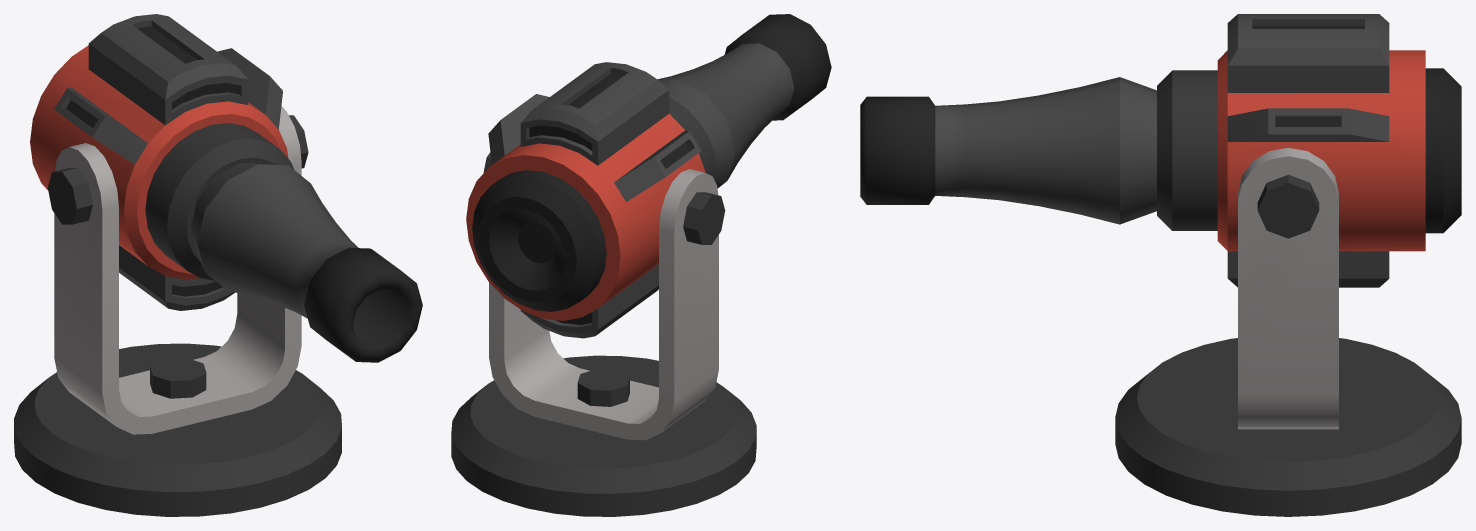
File: bomb_dropper_1.fbx
The picture shows the model from 3 angles, left to right: view 1: azimuth 30°, elevation 25°; view 2: azimuth 150°, elevation 25°; view 3: azimuth 270°, elevation 25°; orthographic projection. The views are drawn at different scales.
Visible parts, largest first — view 1: bomb_dropper_1, bomb_dropper_1_turret, bomb_dropper_1_cannon; view 2: bomb_dropper_1, bomb_dropper_1_turret, bomb_dropper_1_cannon; view 3: bomb_dropper_1, bomb_dropper_1_turret, bomb_dropper_1_cannon.
Part boxes in pixels (x1,y1,x2,y2): bomb_dropper_1: (14, 106, 341, 516); bomb_dropper_1_turret: (30, 14, 294, 310); bomb_dropper_1_cannon: (190, 163, 422, 362); bomb_dropper_1: (451, 152, 756, 516); bomb_dropper_1_turret: (466, 62, 716, 338); bomb_dropper_1_cannon: (657, 14, 831, 188); bomb_dropper_1: (1115, 147, 1461, 516); bomb_dropper_1_turret: (1157, 14, 1461, 287); bomb_dropper_1_cannon: (860, 77, 1156, 224).
Size of the model in its own units: 0.48 by 0.8331 by 0.644.
